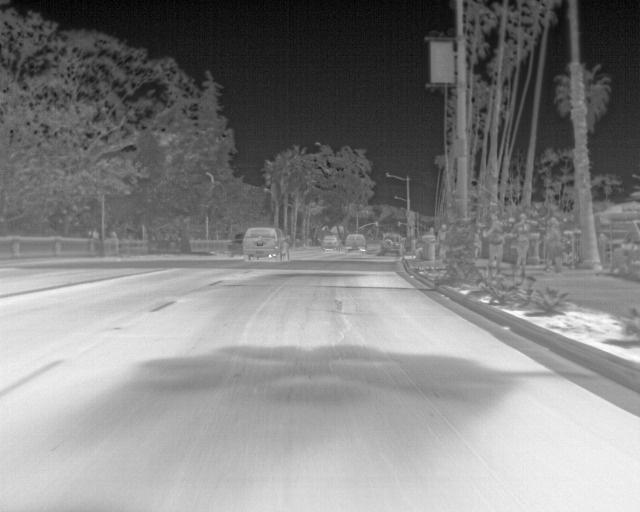bicycle: (242, 227, 287, 260), (344, 230, 368, 252), (379, 232, 401, 256), (225, 234, 246, 256), (319, 234, 341, 250)
empty: (510, 212, 534, 273), (543, 216, 565, 274), (481, 214, 503, 269), (435, 222, 449, 260)
